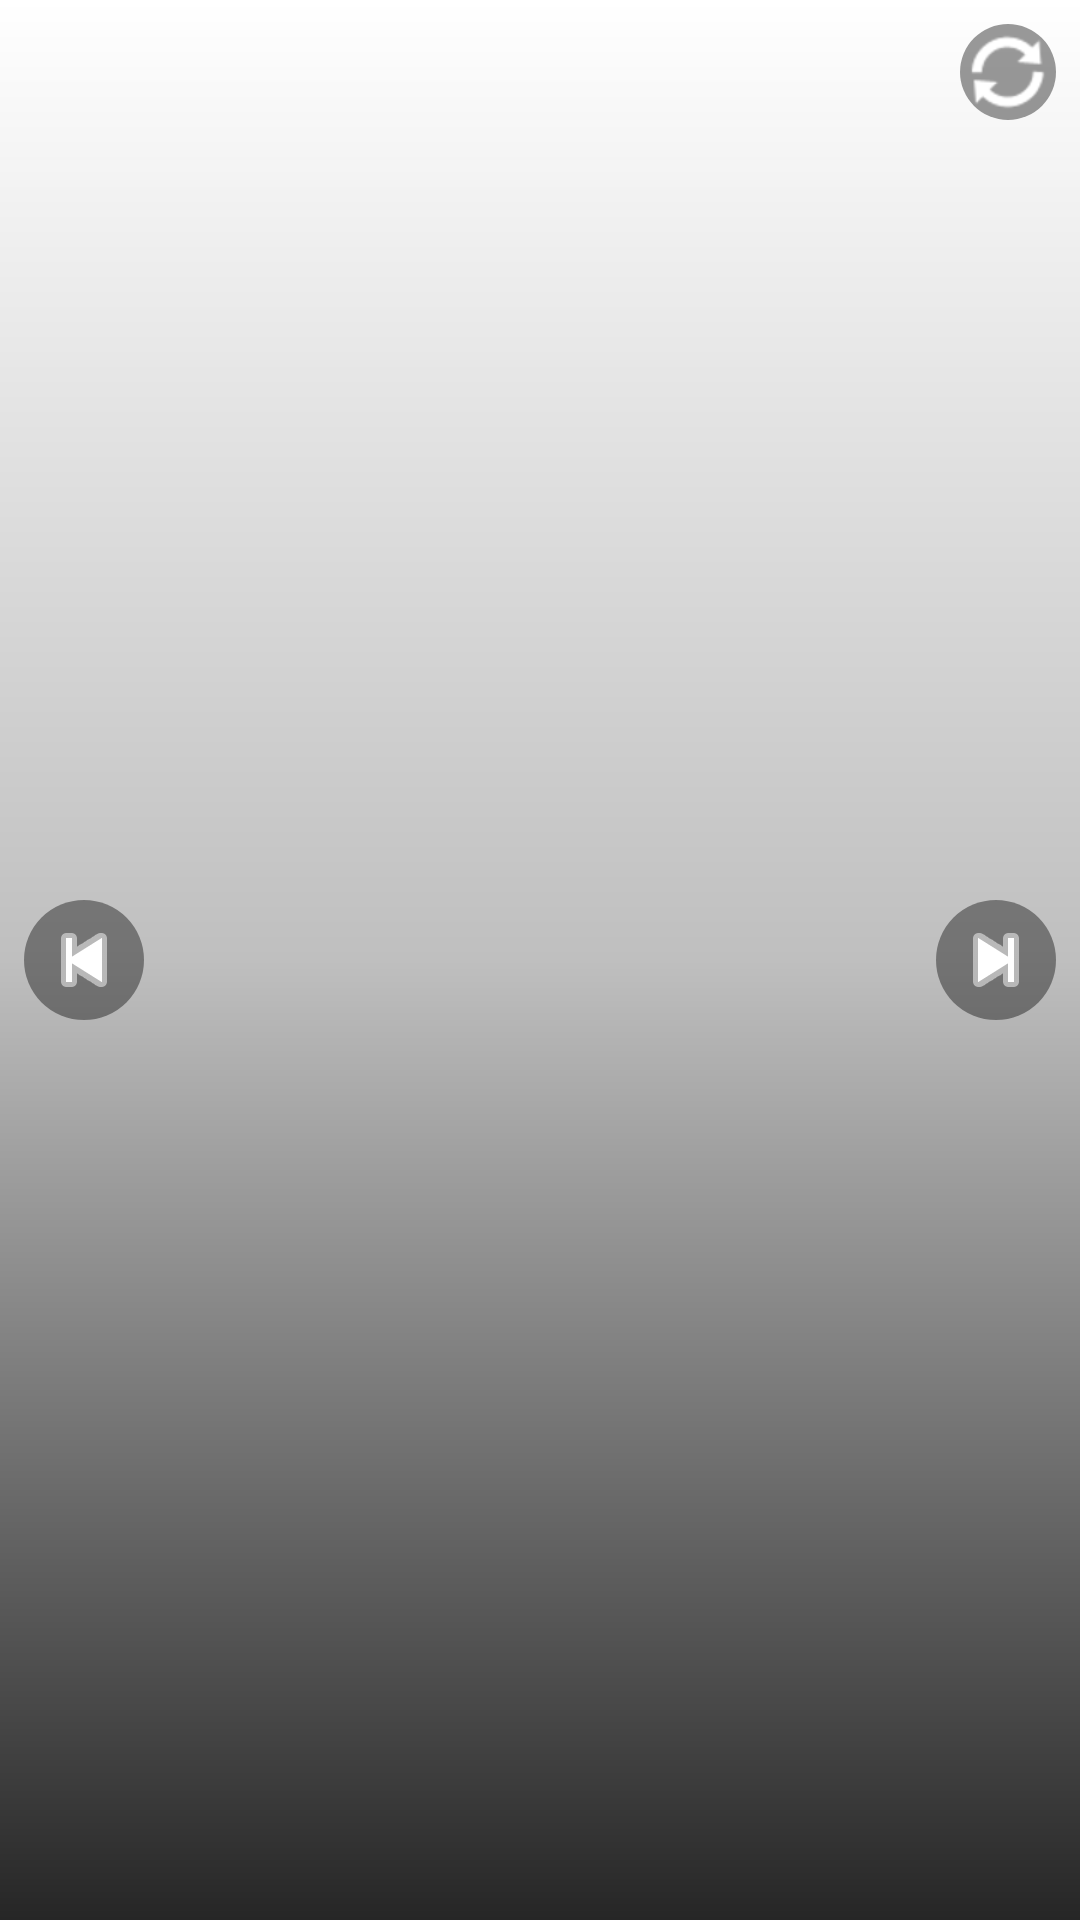

Screen size 1080px x 1920px. Icon name, then its box in pixels as (x1, y1, x2, y2):
Actualizar manifestaciones: (960, 24, 1056, 120)
Anterior: (24, 900, 144, 1020)
Siguiente: (936, 900, 1056, 1020)
